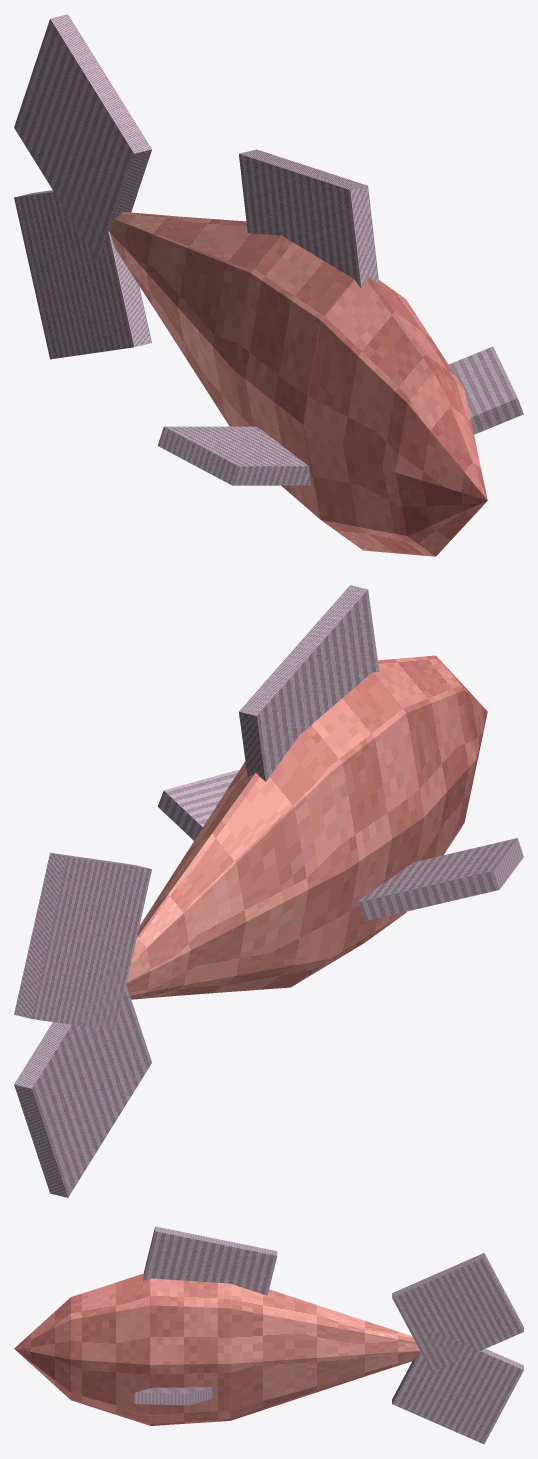
Rendered from salmao_glacial.glb.
3 views of the same model, one above another, from view 1: azimuth 30°, elevation 25°; view 2: azimuth 150°, elevation 25°; view 3: azimuth 270°, elevation 25° (orthographic). The views are drawn at different scales.
Parts seen in each view (by area): view 1: salmao_glacial; view 2: salmao_glacial; view 3: salmao_glacial.
Part boxes in pixels (<box>): salmao_glacial: <box>14,14,523,556</box>; salmao_glacial: <box>14,585,523,1197</box>; salmao_glacial: <box>14,1226,523,1444</box>.
Size of the model in its own units: 0.3993 by 0.4342 by 0.9406.
Materials: 1 (1 with a texture image).
